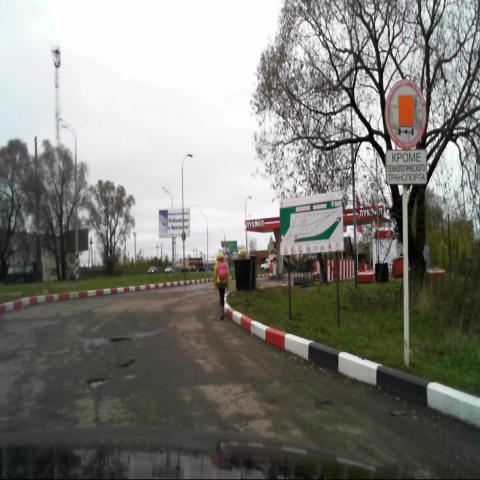3_32: (384, 80, 424, 149)
